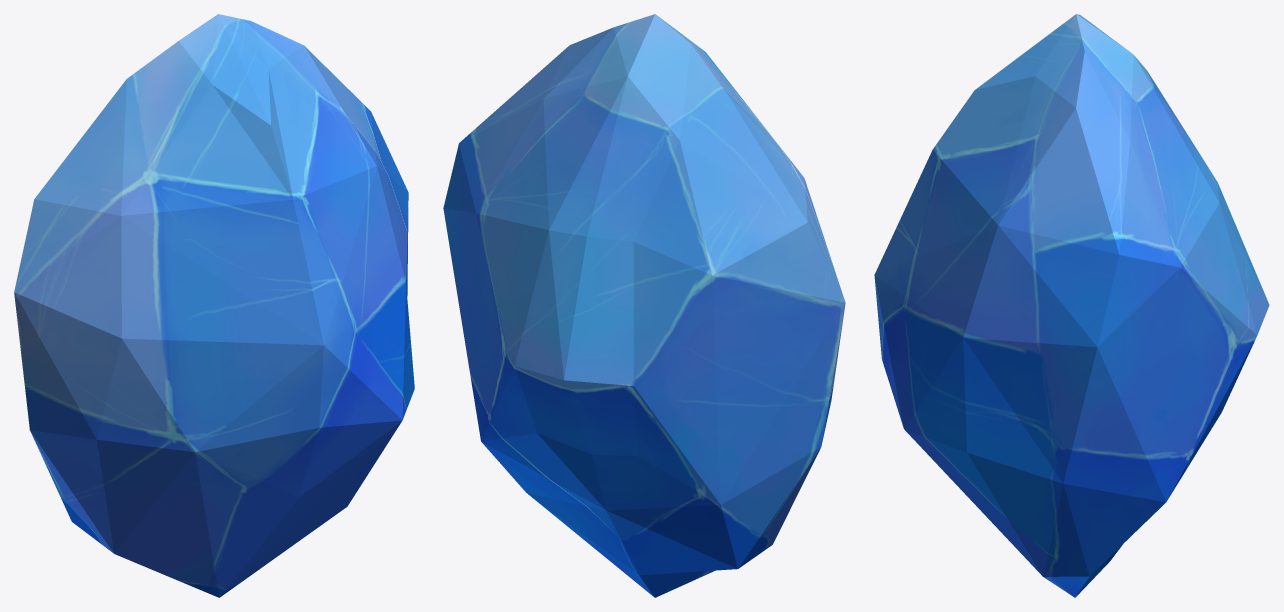
Rendered from B2 - Mana - Crystal.fbx.
The picture shows the model from 3 angles, left to right: view 1: azimuth 30°, elevation 25°; view 2: azimuth 150°, elevation 25°; view 3: azimuth 270°, elevation 25°; orthographic projection.
Parts seen in each view (by area): view 1: Mana_Crystal; view 2: Mana_Crystal; view 3: Mana_Crystal.
Part boxes in pixels (<box>): Mana_Crystal: <box>14,14,414,597</box>; Mana_Crystal: <box>443,14,845,597</box>; Mana_Crystal: <box>874,14,1269,597</box>.
Bounding box in the file's own units: 15.55 × 21.8 × 13.37.
1 material, 1 textured.
